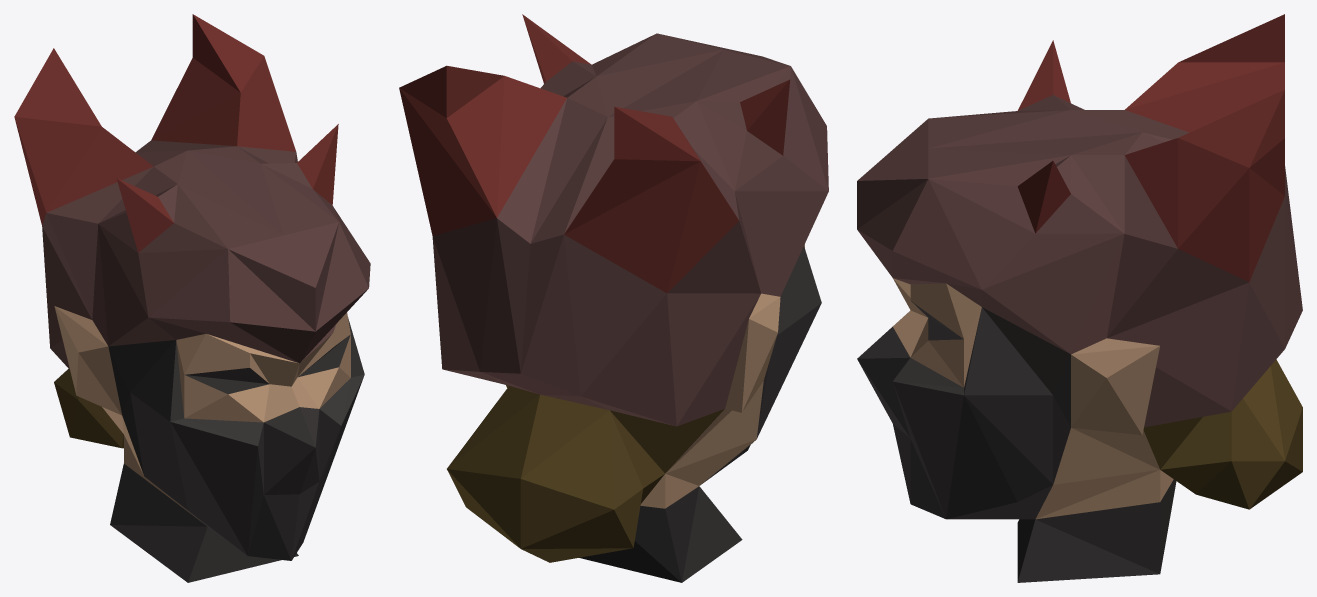
3 views of the same model, side by side, from view 1: azimuth 30°, elevation 25°; view 2: azimuth 150°, elevation 25°; view 3: azimuth 270°, elevation 25° (orthographic). The views are drawn at different scales.
Size of the model in its own units: 18 by 31 by 25.
